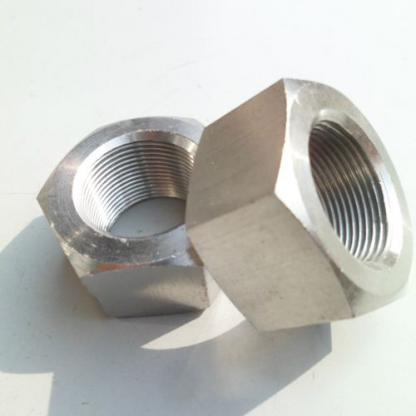FOD: (185, 72, 415, 337), (34, 113, 269, 322)
